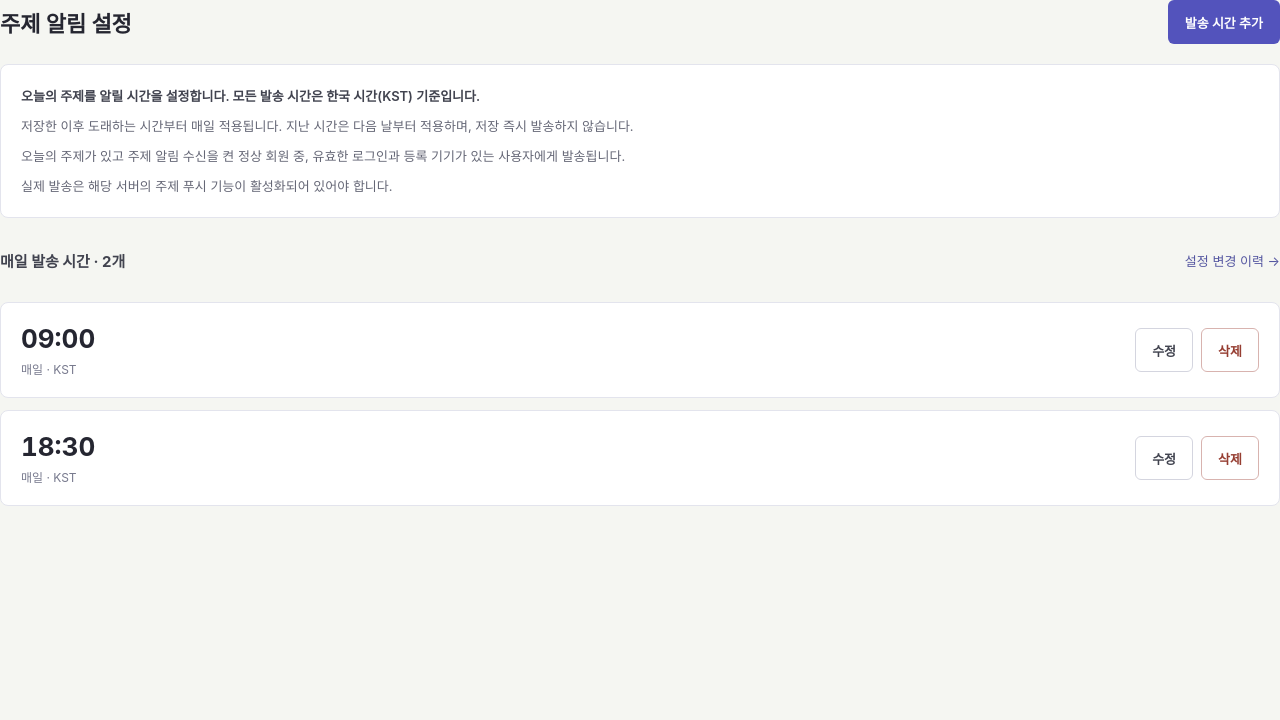
Test: topic push schedules › retains the confirmation dialog on a failed delete
Expected: the text "09:00" is shown, [21,323,95,354]
Click the button with aria-label "09:00 삭제" at (1230, 350), box [1201,328,1259,372]
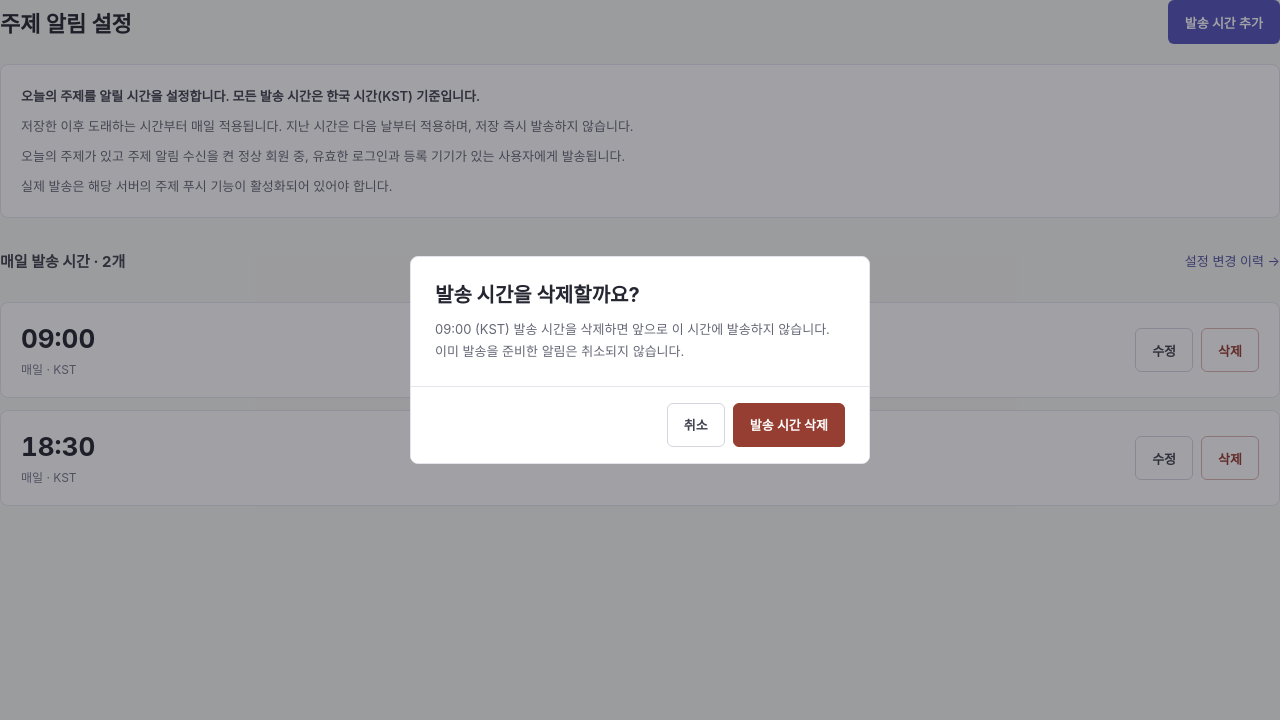
Click the button "발송 시간 삭제" at (789, 425), box [733,403,845,447]
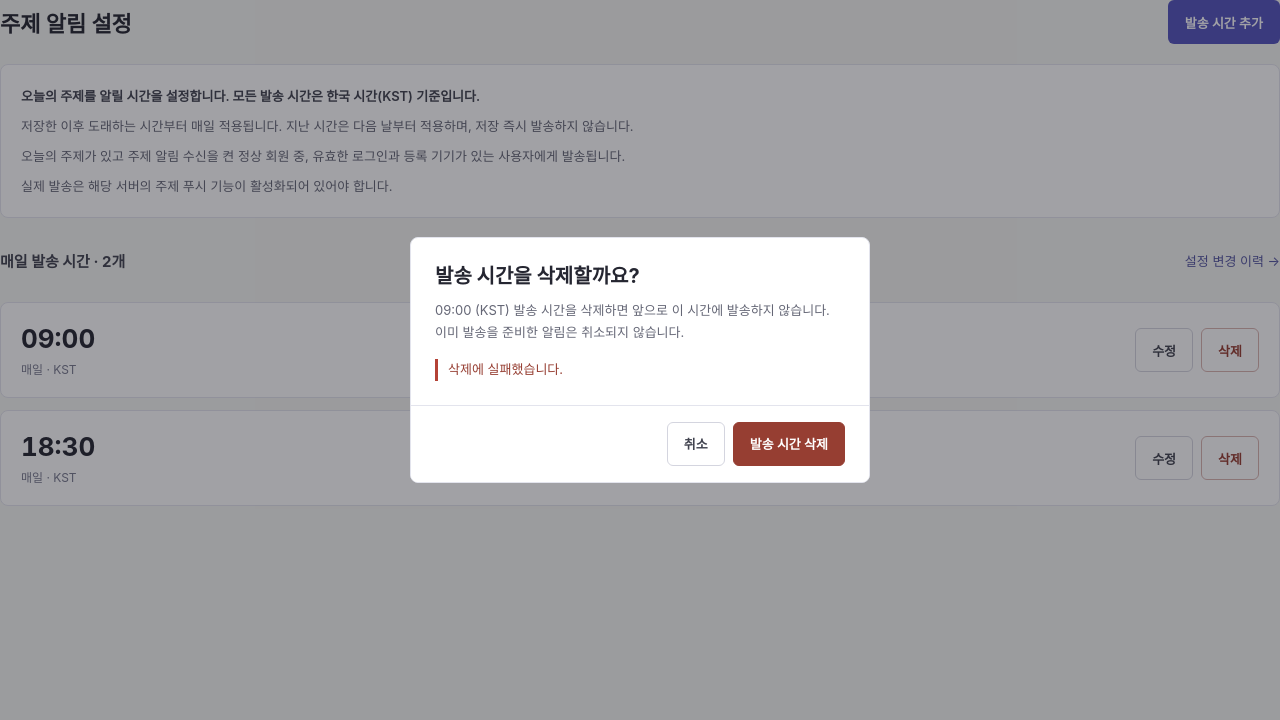
Expected: the text "09:00" is shown, [21,323,95,354]
Now the dialog is shown, box [410,237,870,483]
Now the message reads "삭제에 실패했습니다.", box [448,361,563,377]
